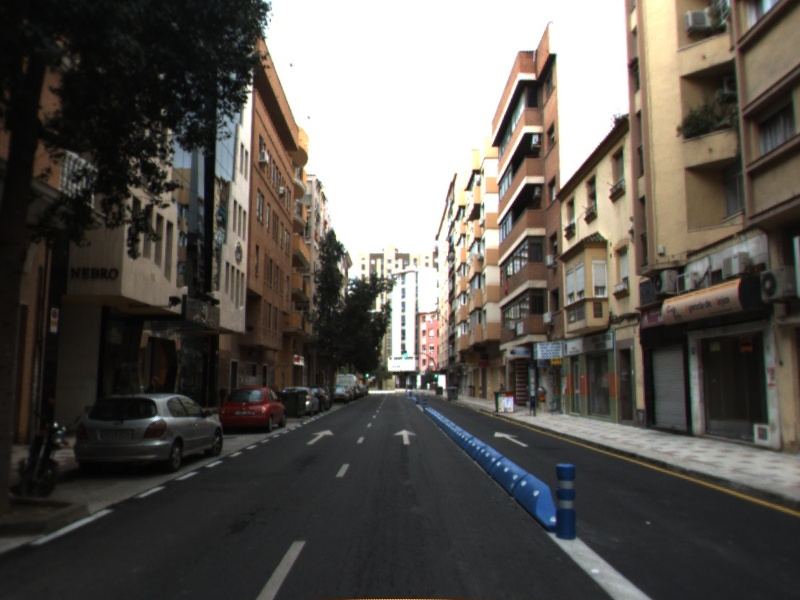STRAIGHT: (493, 430, 530, 448), (305, 428, 335, 446), (392, 427, 418, 447)
